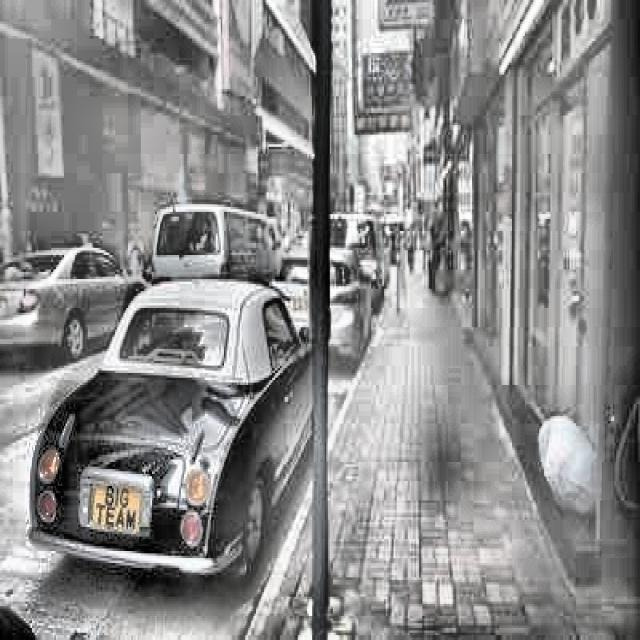license_plate: (84, 478, 147, 536)
